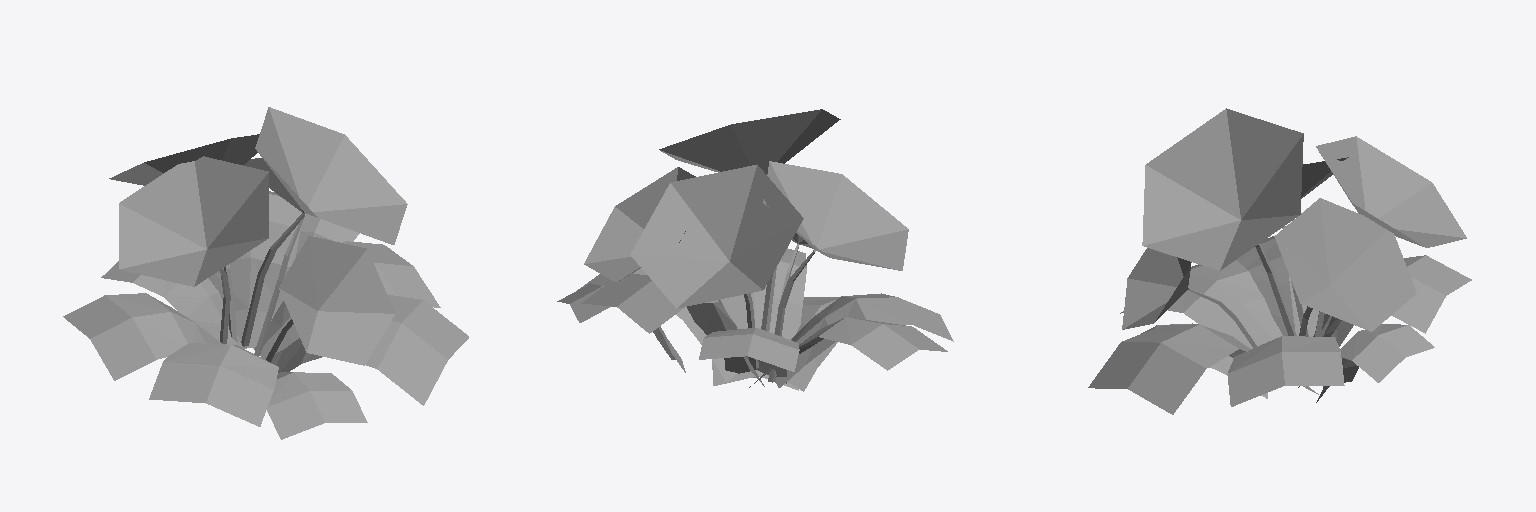
File: Plant_Flowers.obj
3 views of the same model, side by side, from view 1: azimuth 30°, elevation 25°; view 2: azimuth 150°, elevation 25°; view 3: azimuth 270°, elevation 25° (orthographic).
Visible parts, largest first — view 1: Plant_Flowers_Plane.034; view 2: Plant_Flowers_Plane.034; view 3: Plant_Flowers_Plane.034.
Part boxes in pixels (x1,y1,x2,y2): Plant_Flowers_Plane.034: (63, 107, 468, 439); Plant_Flowers_Plane.034: (557, 109, 953, 391); Plant_Flowers_Plane.034: (1088, 108, 1471, 414).
Size of the model in its own units: 1.48 by 1.18 by 1.53.